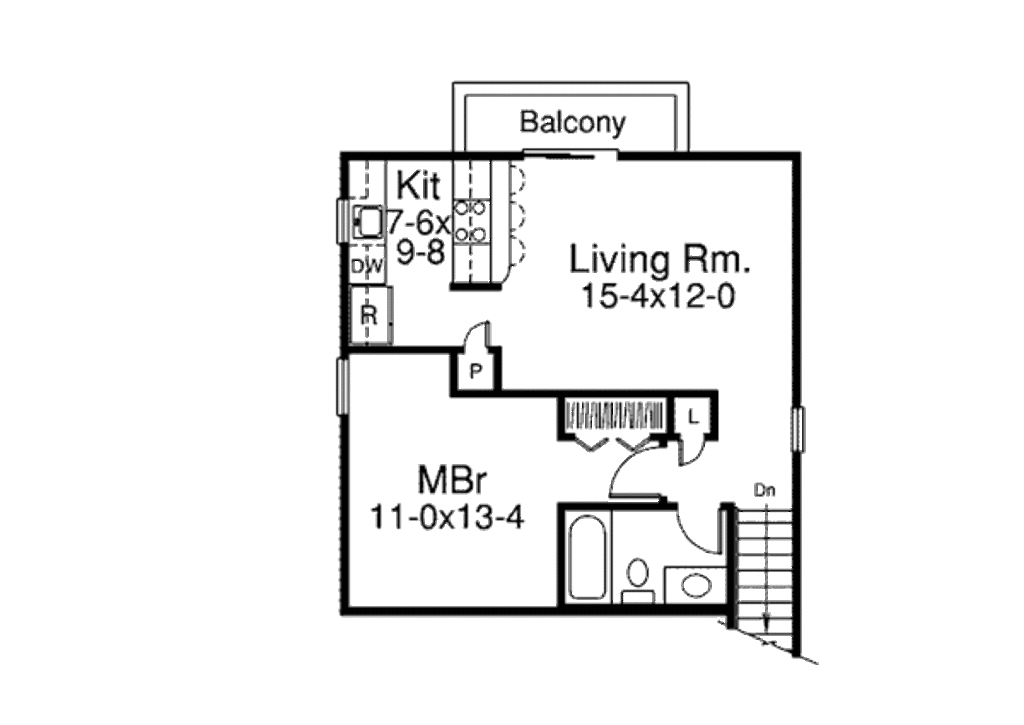door: (608, 445, 671, 499), (674, 500, 725, 556), (451, 320, 501, 348), (682, 430, 706, 471)
kitchen_bar: (444, 153, 547, 311)
large_sink: (618, 549, 653, 607)
small_sink: (664, 563, 729, 609)
stairs: (731, 497, 823, 676)
tub: (561, 504, 613, 606)
window: (783, 403, 819, 459), (335, 353, 360, 411), (332, 193, 352, 245)
